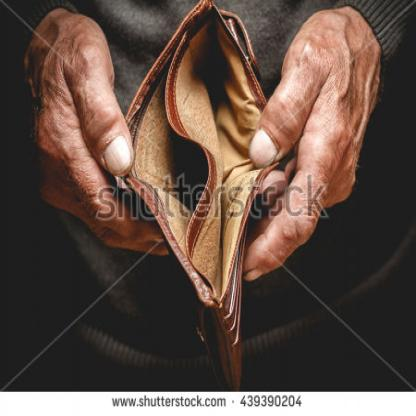monedero: (114, 0, 288, 391)
